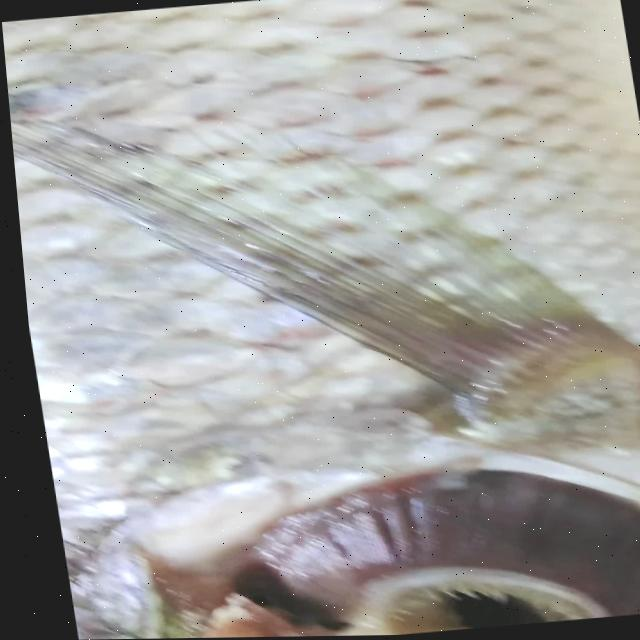Non-Fresh: (236, 442, 640, 638)
